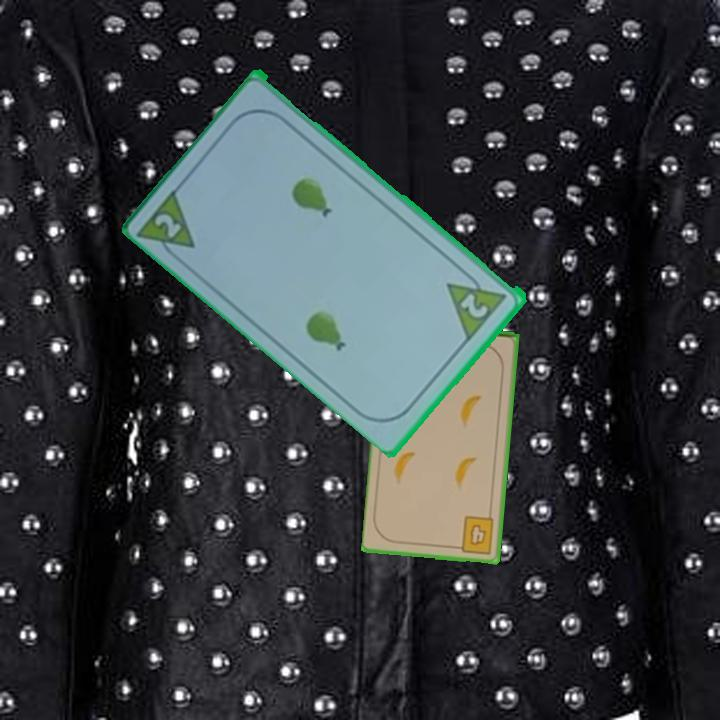2p: (135, 183, 200, 267), (457, 289, 492, 322)
4b: (452, 513, 497, 557)
